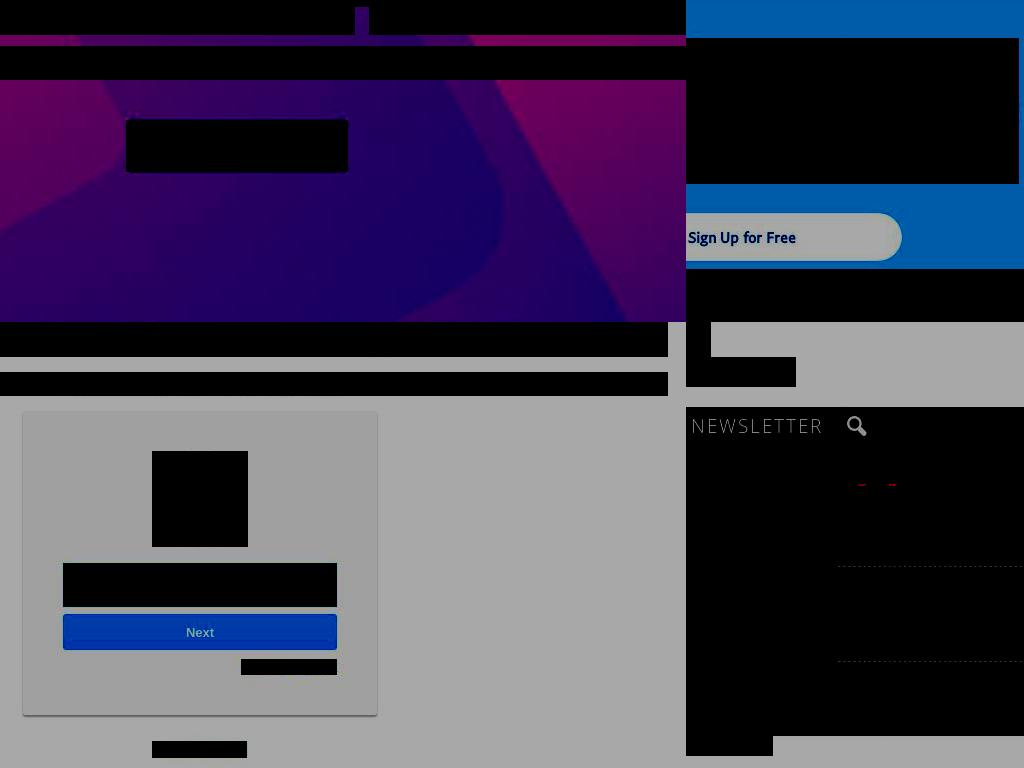button: (126, 120, 348, 172), (686, 213, 902, 261), (241, 659, 337, 675)
field: (63, 563, 337, 607), (63, 613, 337, 650)
heading: (686, 38, 1019, 184), (0, 322, 668, 357), (0, 46, 686, 80), (0, 372, 668, 396), (0, 0, 355, 35), (369, 0, 686, 35), (933, 572, 1024, 654), (933, 495, 1024, 555), (933, 667, 1024, 707), (838, 466, 1024, 484), (686, 357, 796, 387), (354, 0, 370, 7)
image: (152, 451, 248, 547), (838, 571, 923, 636), (838, 666, 923, 731), (838, 494, 923, 558), (760, 616, 788, 644)
link: (691, 413, 823, 439), (688, 228, 796, 246), (152, 741, 247, 758), (1003, 417, 1024, 436)
